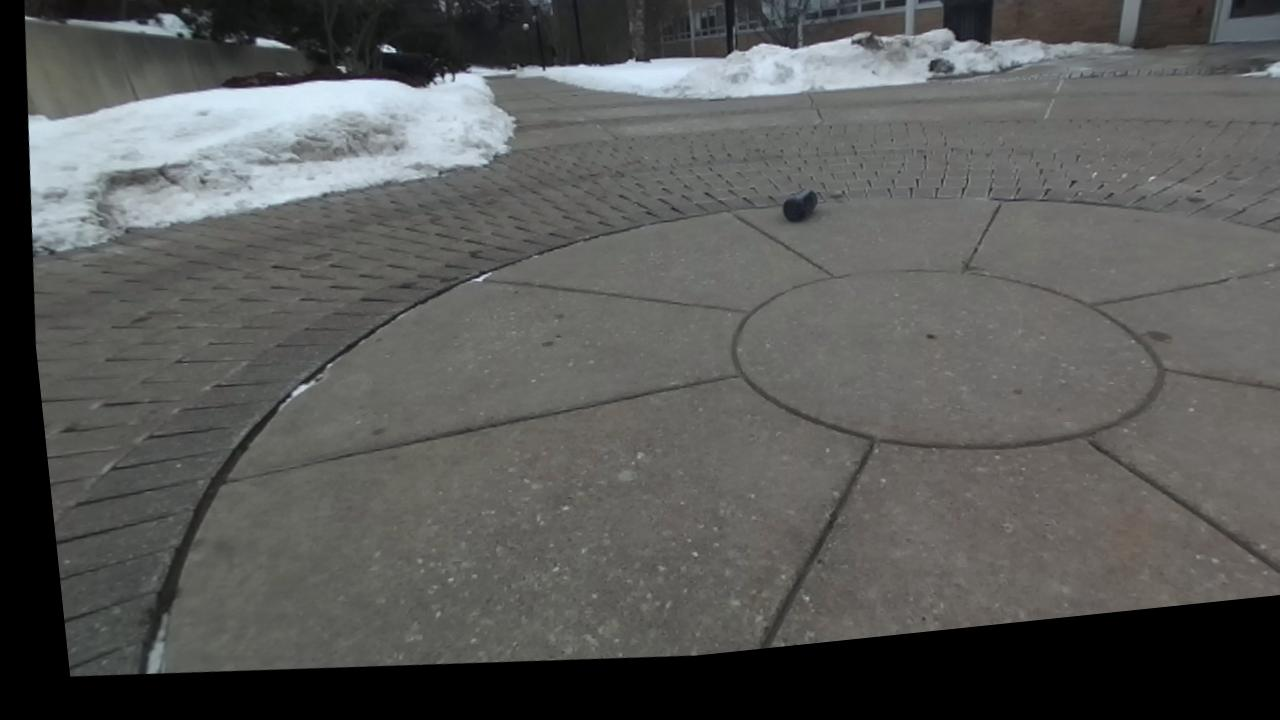bottle: (783, 190, 816, 221)
